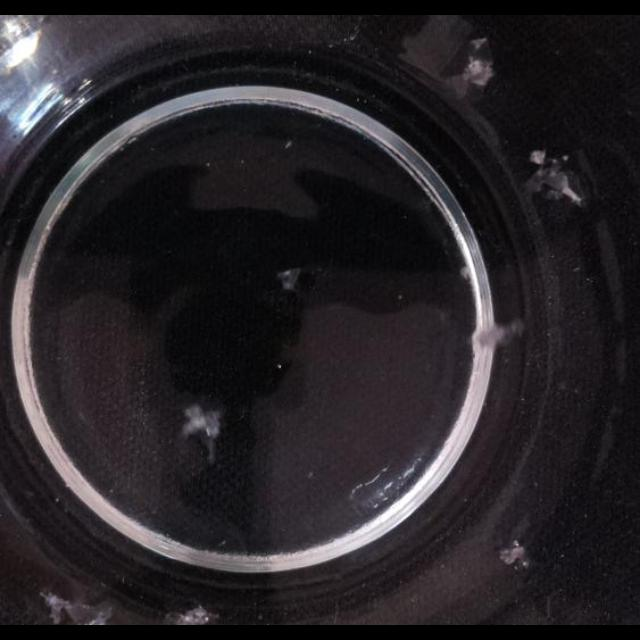Fibre: (527, 149, 585, 205), (183, 392, 227, 453), (41, 590, 113, 626), (472, 316, 524, 356), (462, 36, 496, 90), (167, 605, 217, 625), (498, 540, 528, 568), (277, 272, 299, 292), (529, 149, 547, 165), (460, 264, 472, 282)
microbeads: (218, 538, 228, 548), (284, 140, 292, 150)
